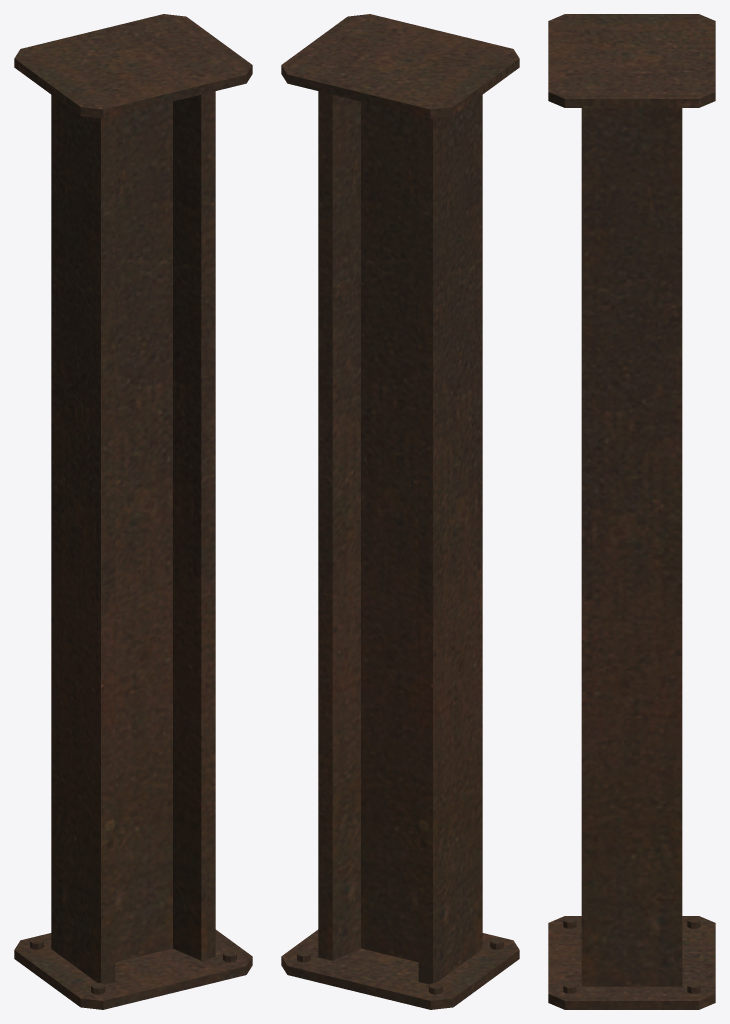
The model's file is beam_hc_vertical_1.obj.
3 renders of one model, left to right at view 1: azimuth 30°, elevation 25°; view 2: azimuth 150°, elevation 25°; view 3: azimuth 270°, elevation 25°, orthographic.
Parts seen in each view (by area): view 1: beam_hc_vertical_1; view 2: beam_hc_vertical_1; view 3: beam_hc_vertical_1.
Boxes of the visible parts, left/top/right/bottom form: beam_hc_vertical_1: left=14, top=14, right=252, bottom=1009; beam_hc_vertical_1: left=281, top=14, right=519, bottom=1009; beam_hc_vertical_1: left=548, top=14, right=715, bottom=1009.
Bounding box in the file's own units: 0.6 × 3 × 0.5.
